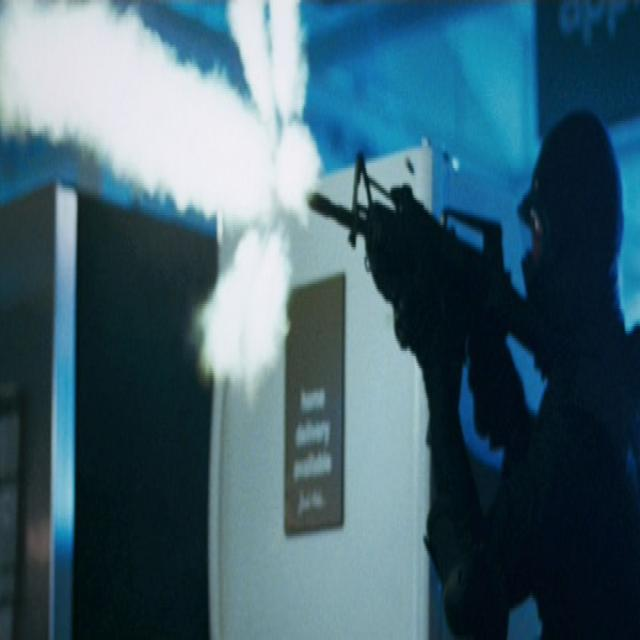rifle: (304, 144, 537, 413)
